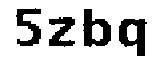5: (10, 5, 46, 50)
b: (81, 7, 114, 51)
q: (116, 16, 149, 60)
z: (46, 14, 79, 50)
